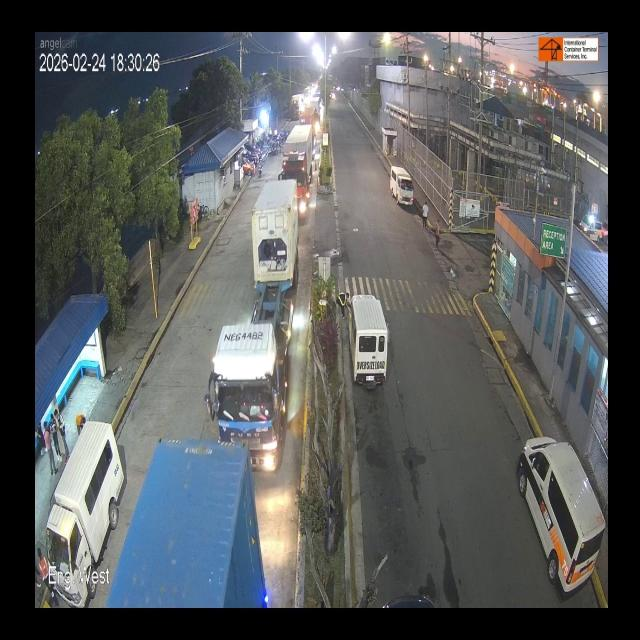car: (24, 416, 124, 610), (505, 426, 605, 592), (344, 286, 394, 407), (391, 166, 415, 216)
truck: (203, 174, 306, 487), (274, 121, 318, 225)
